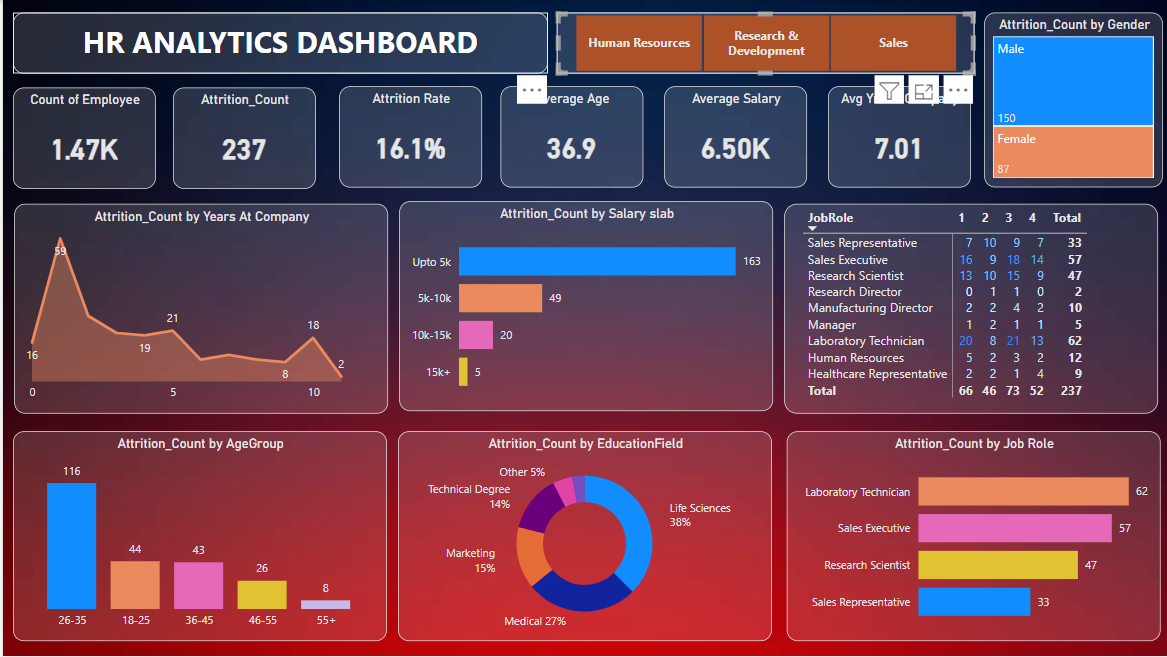

This screenshot's page, from the dashboard's own definition file:
{"tool":"powerbi","page":{"name":"Page 1","canvas":[1280,720],"ordinal":0},"visuals":[{"type":"cardVisual","title":"Count of Employee","fields":{"Data":["CountNonNull(HR_Analytics_copy.EmpID)"]},"box":[11,96.1,156.4,111.1],"z":0},{"type":"cardVisual","title":"Attrition_Count","fields":{"Data":["Sum(HR_Analytics_copy.AttritionCount)"]},"box":[186.6,96.1,156.4,111.1],"z":1},{"type":"cardVisual","title":"Attrition Rate","fields":{"Data":["HR_Analytics_copy.AttritionRate"]},"box":[369.1,94.7,156.4,111.1],"z":2},{"type":"cardVisual","title":"Average Age","fields":{"Data":["Avg(HR_Analytics_copy.Age)"]},"box":[546.1,94.7,156.4,111.1],"z":3},{"type":"cardVisual","title":"Average Salary","fields":{"Data":["Avg(HR_Analytics_copy.MonthlyIncome)"]},"box":[725.9,94.7,156.4,111.1],"z":4},{"type":"cardVisual","title":"Avg Yrs At Company","fields":{"Data":["Avg(HR_Analytics_copy.YearsAtCompany)"]},"box":[905.7,94.7,156.4,111.1],"z":5},{"type":"donutChart","title":"Attrition_Count by EducationField","fields":{"Y":["Sum(HR_Analytics_copy.AttritionCount)"],"Category":["HR_Analytics_copy.EducationField"]},"box":[433.6,473.4,410.3,230.5],"z":6},{"type":"columnChart","title":"Attrition_Count by AgeGroup","fields":{"Y":["Sum(HR_Analytics_copy.AttritionCount)"],"Category":["HR_Analytics_copy.AgeGroup"]},"box":[11,473.4,410.3,230.5],"z":7},{"type":"pivotTable","fields":{"Columns":["HR_Analytics_copy.JobSatisfaction"],"Rows":["HR_Analytics_copy.JobRole"],"Values":["Sum(HR_Analytics_copy.AttritionCount)"]},"box":[857,224,410,230.5],"z":8},{"type":"barChart","title":"Attrition_Count by Salary slab","fields":{"Category":["HR_Analytics_copy.SalarySlab"],"Y":["Sum(HR_Analytics_copy.AttritionCount)"]},"box":[435,220.9,410.3,230.5],"z":9},{"type":"barChart","title":"Attrition_Count by Job Role","fields":{"Category":["HR_Analytics_copy.JobRole"],"Y":["Sum(HR_Analytics_copy.AttritionCount)"]},"box":[860.4,473.4,410.3,230.5],"z":10},{"type":"areaChart","title":"Attrition_Count by Years At Company","fields":{"Category":["HR_Analytics_copy.YearsAtCompany"],"Y":["Sum(HR_Analytics_copy.AttritionCount)"]},"box":[12.3,223.7,410.3,230.5],"z":11},{"type":"treemap","title":"Attrition_Count by Gender","fields":{"Group":["HR_Analytics_copy.Gender"],"Values":["Sum(HR_Analytics_copy.AttritionCount)"]},"box":[1077.2,13.7,196.2,192.1],"z":12},{"type":"slicer","fields":{"Values":["HR_Analytics_copy.Department"]},"box":[607.9,13.7,458.3,67.2],"z":13},{"type":"textbox","box":[11,13.7,587.3,67.2],"z":14}]}

Visuals, with their boxes in screenshot pixels (x1, y1, x2, y2), scaled from the page's 1280x720 canvas onto the 1167x657 screenshot:
"Count of Employee" cardVisual: [x1=10, y1=88, x2=153, y2=189]
"Attrition_Count" cardVisual: [x1=170, y1=88, x2=313, y2=189]
"Attrition Rate" cardVisual: [x1=337, y1=86, x2=479, y2=188]
"Average Age" cardVisual: [x1=498, y1=86, x2=640, y2=188]
"Average Salary" cardVisual: [x1=662, y1=86, x2=804, y2=188]
"Avg Yrs At Company" cardVisual: [x1=826, y1=86, x2=968, y2=188]
"Attrition_Count by EducationField" donutChart: [x1=395, y1=432, x2=769, y2=642]
"Attrition_Count by AgeGroup" columnChart: [x1=10, y1=432, x2=384, y2=642]
pivotTable - HR_Analytics_copy.JobSatisfaction x HR_Analytics_copy.JobRole: [x1=781, y1=204, x2=1155, y2=415]
"Attrition_Count by Salary slab" barChart: [x1=397, y1=202, x2=771, y2=412]
"Attrition_Count by Job Role" barChart: [x1=784, y1=432, x2=1159, y2=642]
"Attrition_Count by Years At Company" areaChart: [x1=11, y1=204, x2=385, y2=414]
"Attrition_Count by Gender" treemap: [x1=982, y1=13, x2=1161, y2=188]
slicer - HR_Analytics_copy.Department: [x1=554, y1=13, x2=972, y2=74]
textbox: [x1=10, y1=13, x2=545, y2=74]
